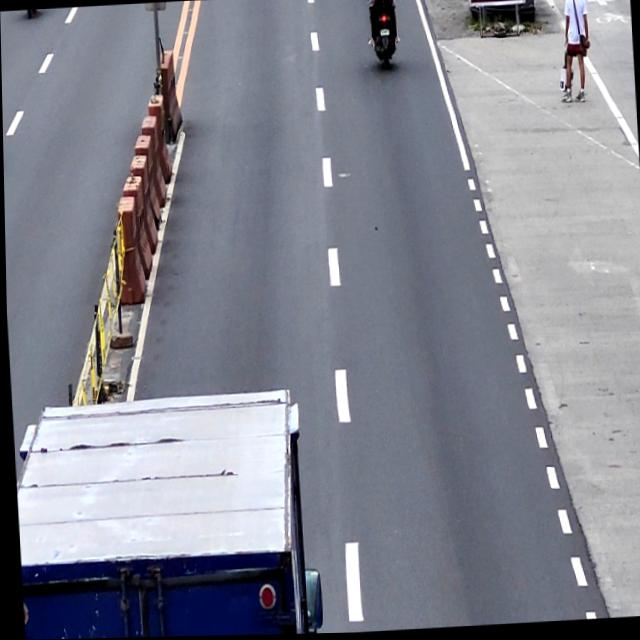Motorcycle: (365, 0, 400, 71)
Truck: (10, 393, 306, 640)
